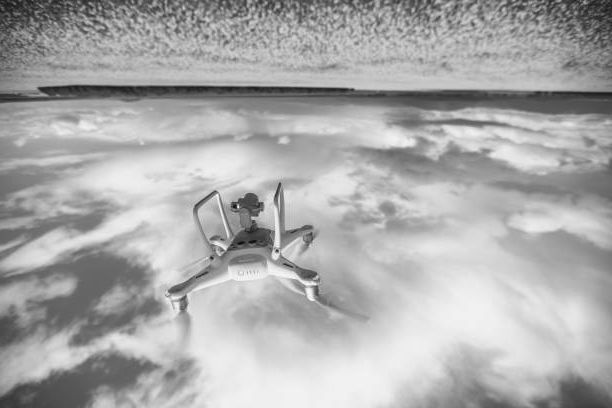Drone: (150, 182, 375, 346)
